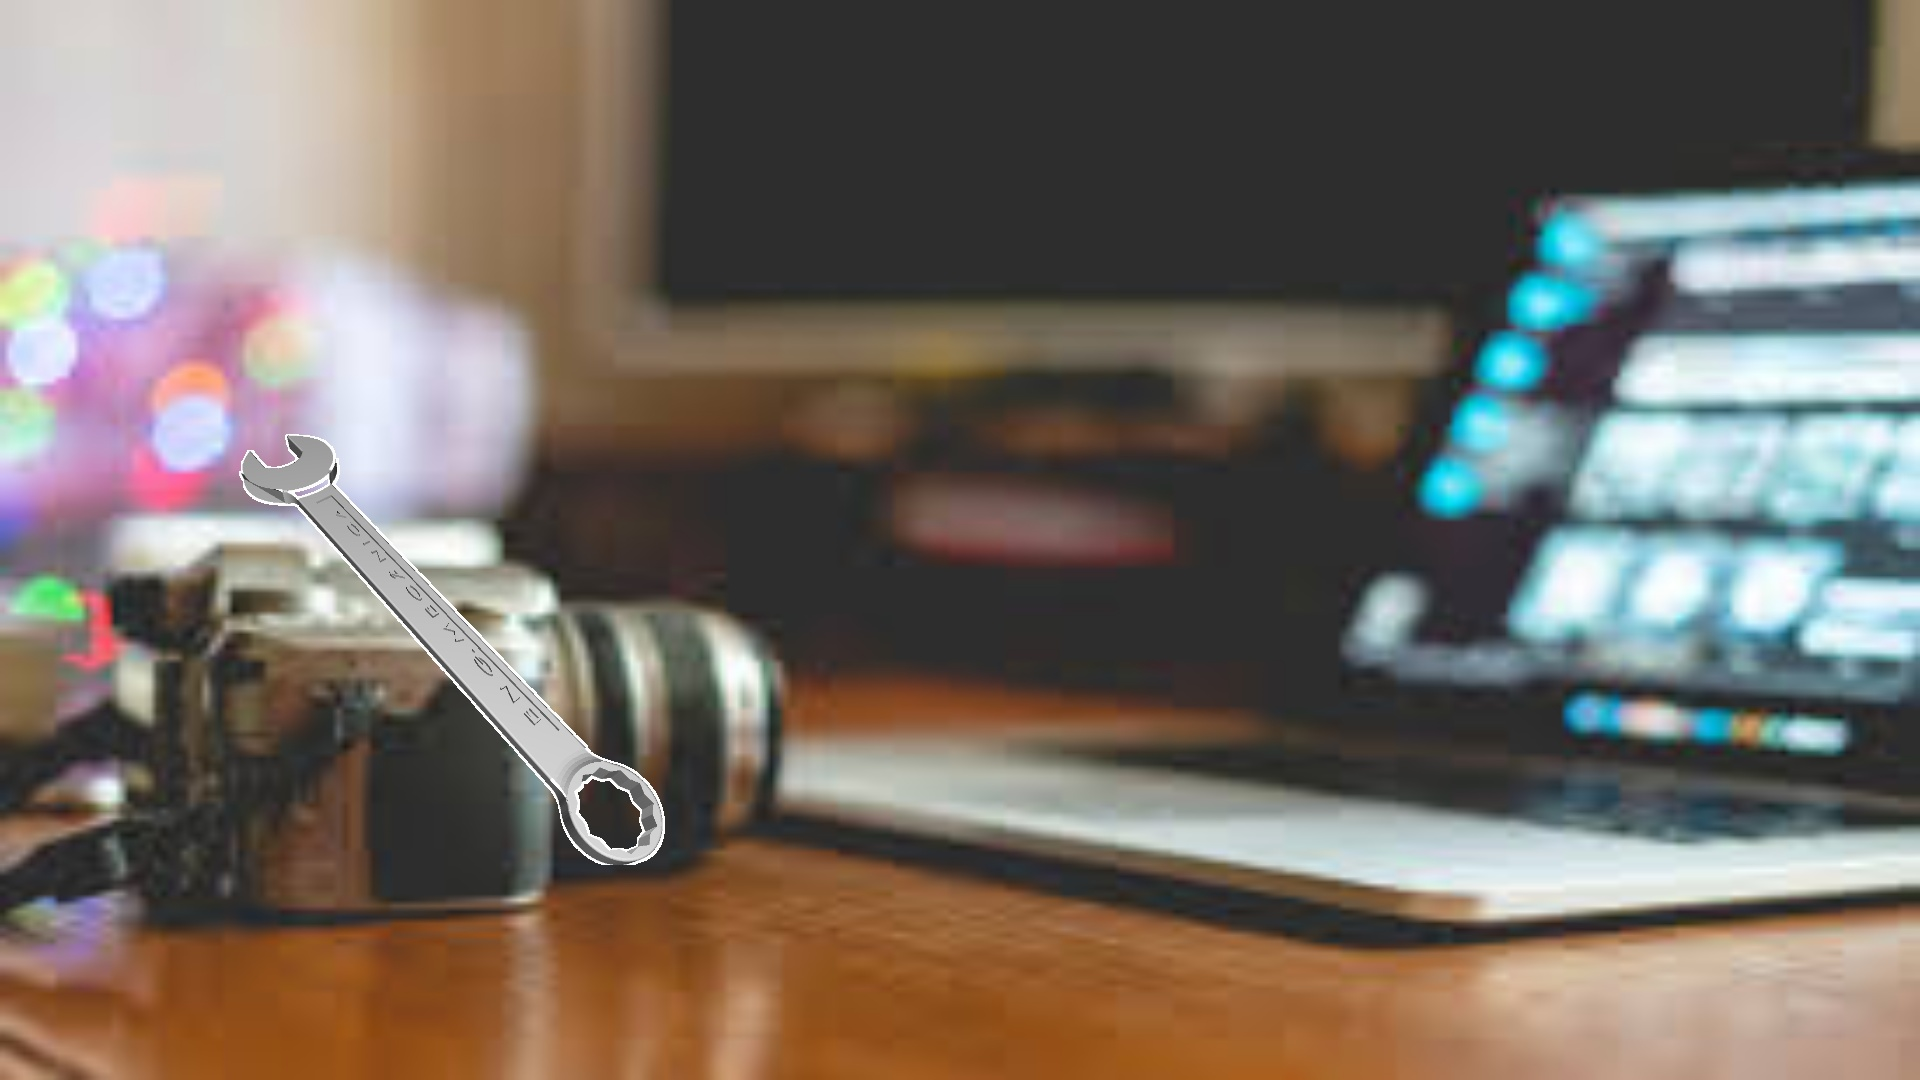Mixed Key: (239, 434, 665, 864)
